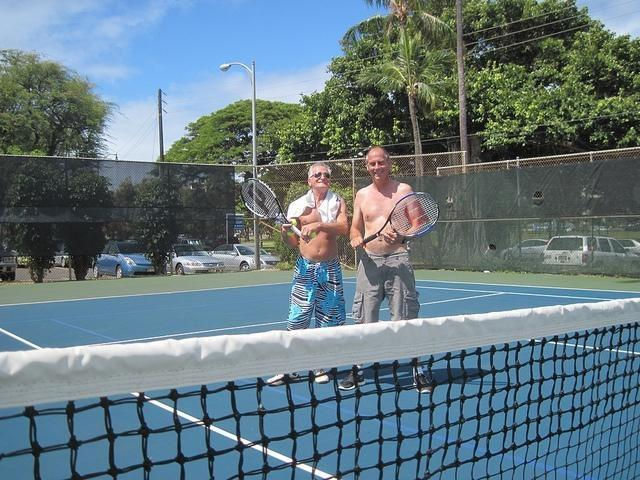car: (540, 237, 640, 275), (92, 241, 156, 278), (207, 243, 280, 271), (170, 244, 227, 276), (500, 238, 550, 261), (0, 241, 17, 282), (173, 238, 212, 250), (618, 238, 640, 255), (51, 250, 70, 268)
